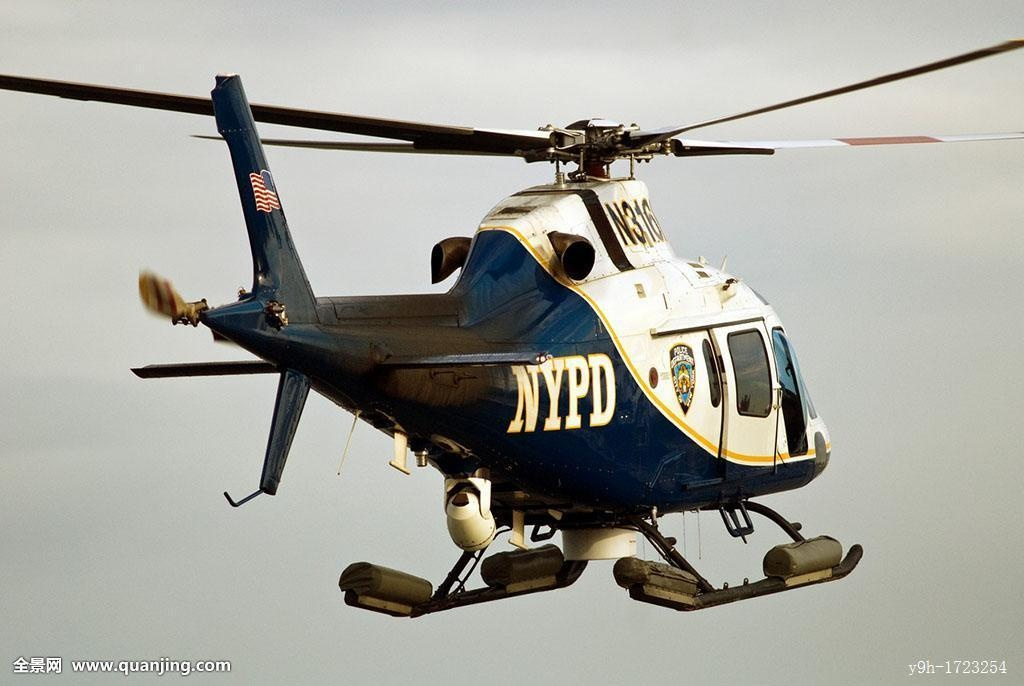airplane: (4, 37, 972, 619)
